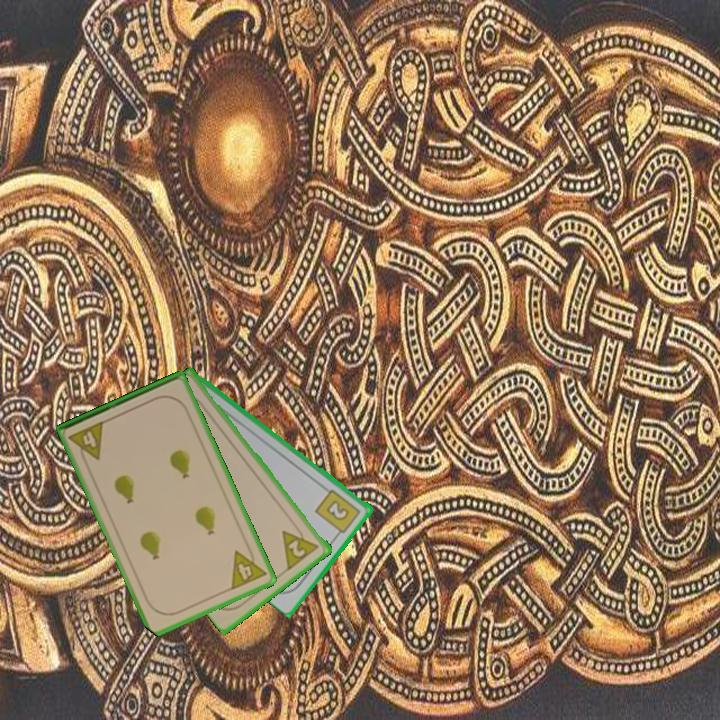2b: (312, 485, 364, 540)
2p: (279, 520, 322, 572)
4p: (227, 542, 269, 593), (65, 417, 107, 467)
